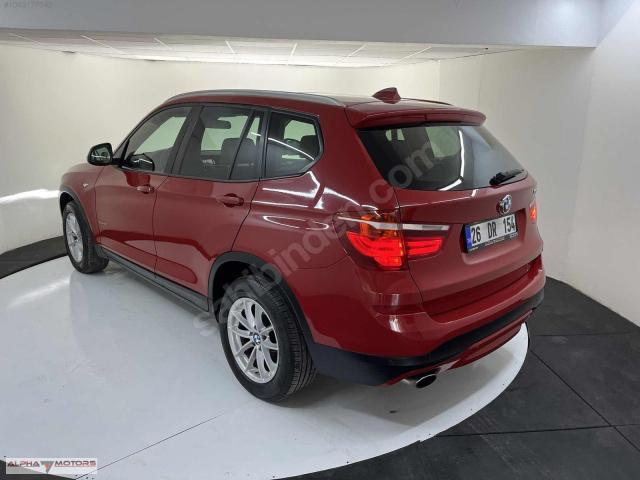plaka: (464, 214, 518, 253)
